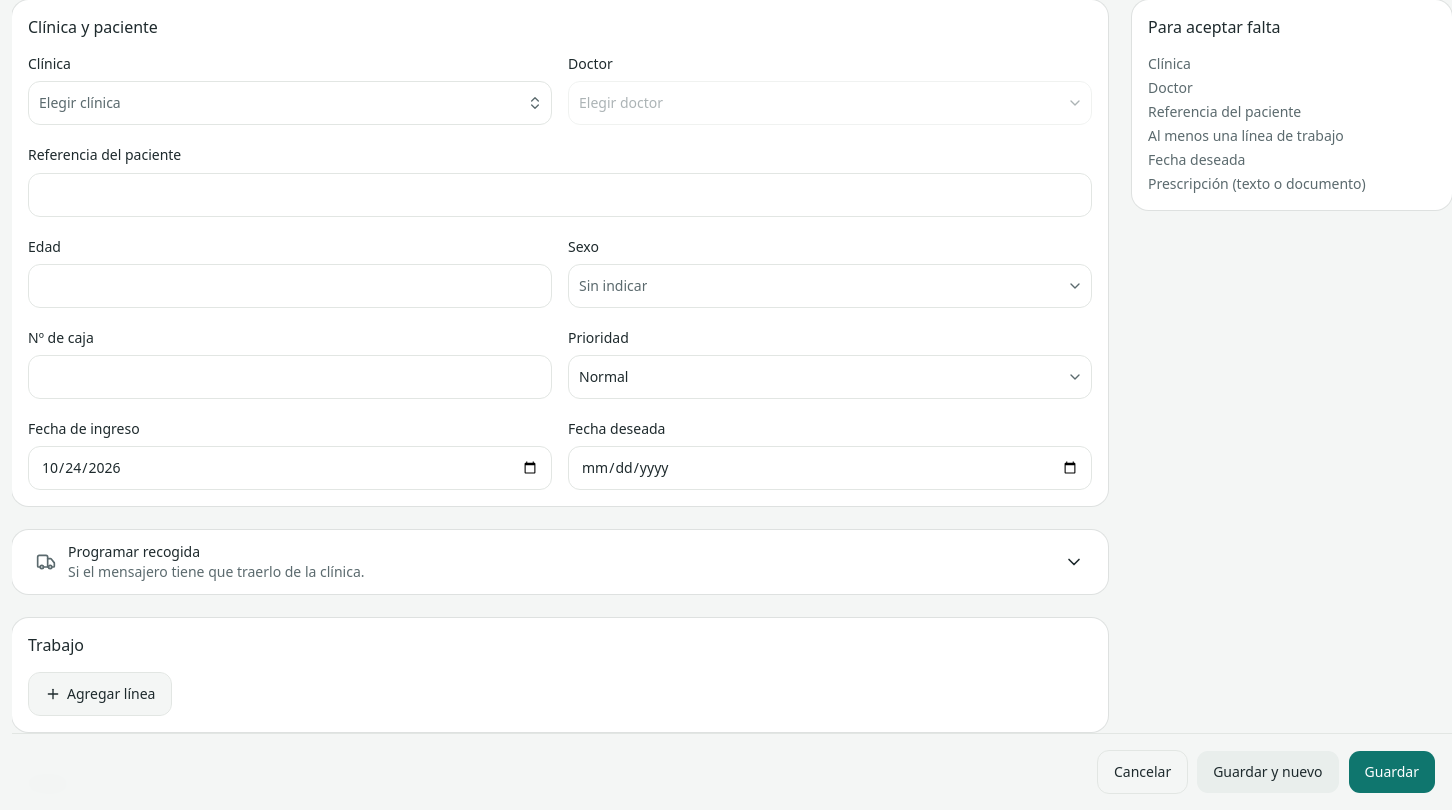
Test: CaseForm › con role "tecnico" no se renderiza el precio unitario
What coordinates should you click on to do the following:
click the button "Agregar línea"
I would click on:
 (100, 694)
Its box is [28,672,172,716].
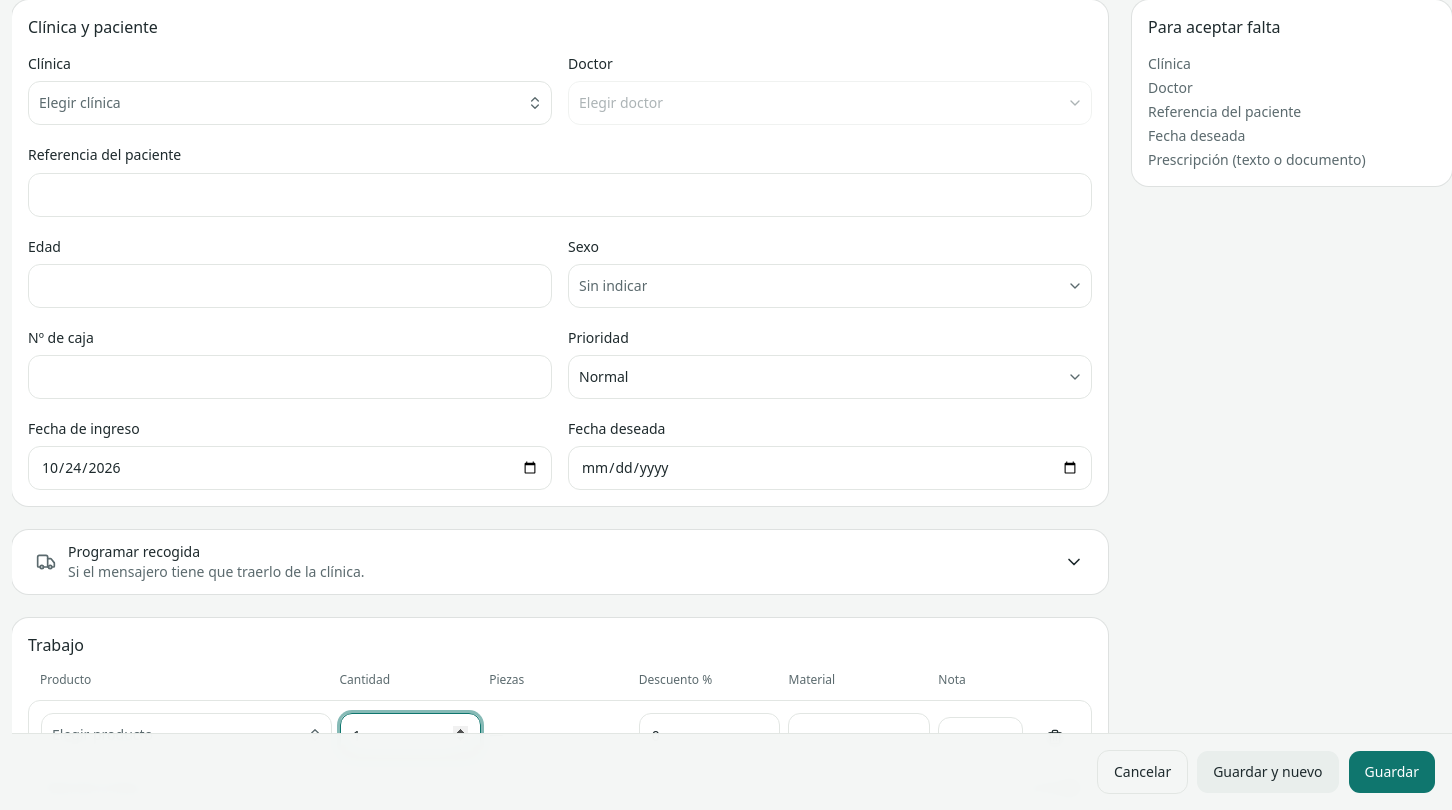
Expected: the number field named "Cantidad" is shown, [340,713,481,757]
